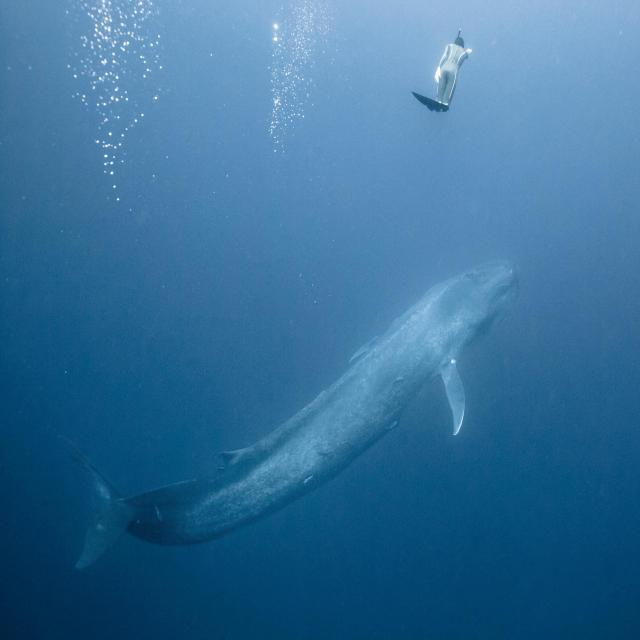blue_whale: (32, 232, 562, 639)
